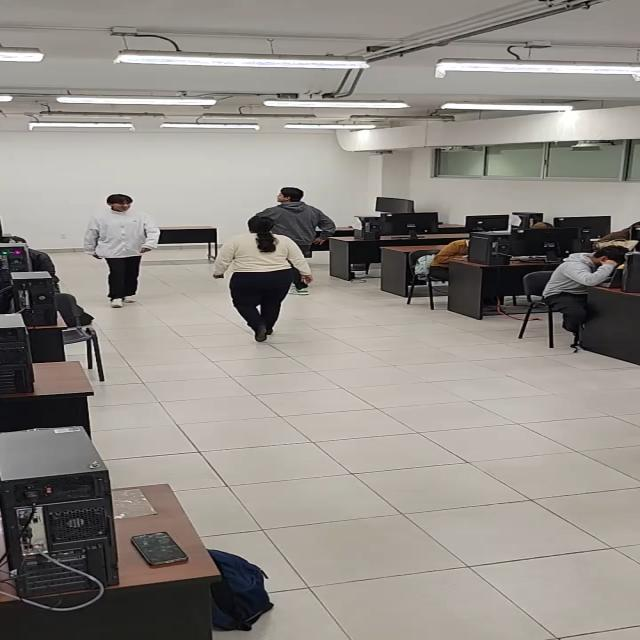Persona: (215, 214, 313, 344), (87, 189, 160, 308), (266, 184, 322, 296)
